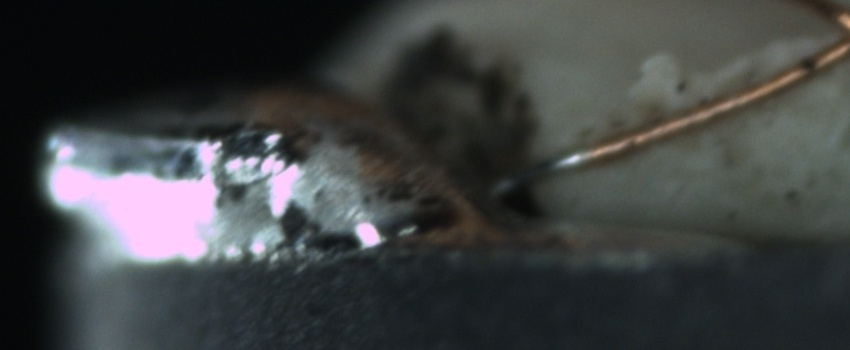TS: (493, 148, 592, 193)
